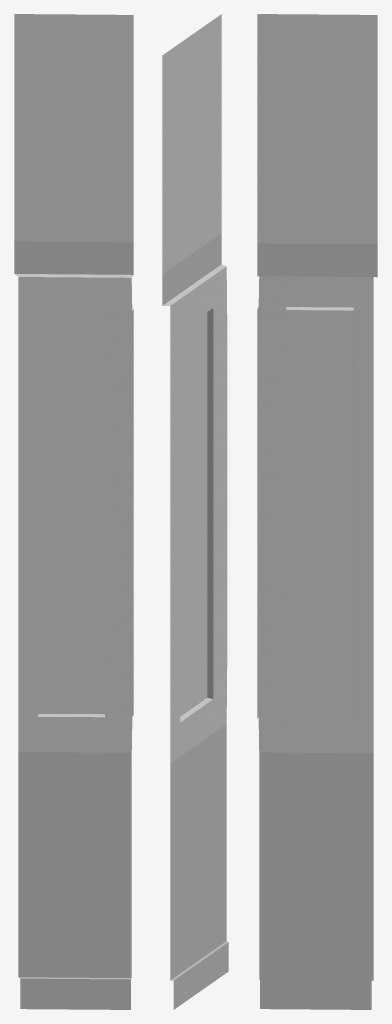
File: SM_Wall_Tiled_41.fbx
3 views of the same model, side by side, from view 1: azimuth 90°, elevation 25°; view 2: azimuth 150°, elevation 25°; view 3: azimuth 270°, elevation 25° (orthographic). The views are drawn at different scales.
Visible parts, largest first — view 1: SM_Wall_Tiled_41; view 2: SM_Wall_Tiled_41; view 3: SM_Wall_Tiled_41.
Part boxes in pixels (x1=…): SM_Wall_Tiled_41: x1=14, y1=14, x2=133, y2=1009; SM_Wall_Tiled_41: x1=162, y1=14, x2=228, y2=1009; SM_Wall_Tiled_41: x1=257, y1=14, x2=377, y2=1009.
Bounding box in the file's own units: 8.78 × 83.38 × 763.
